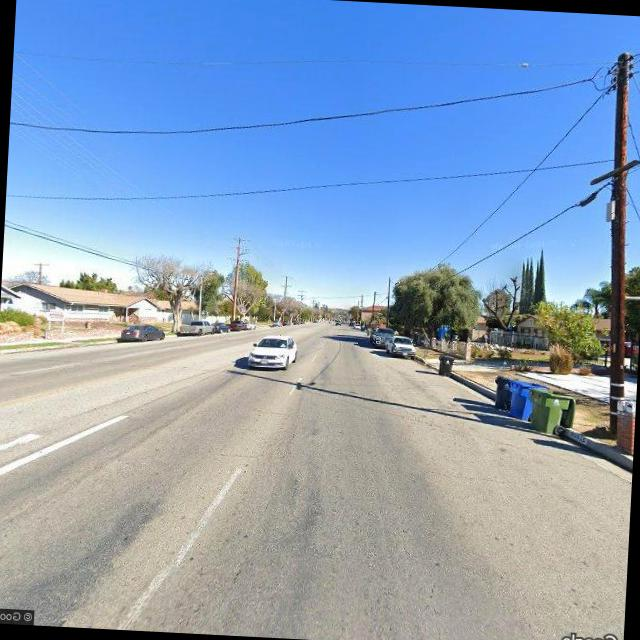pothole: (282, 419, 300, 460)
